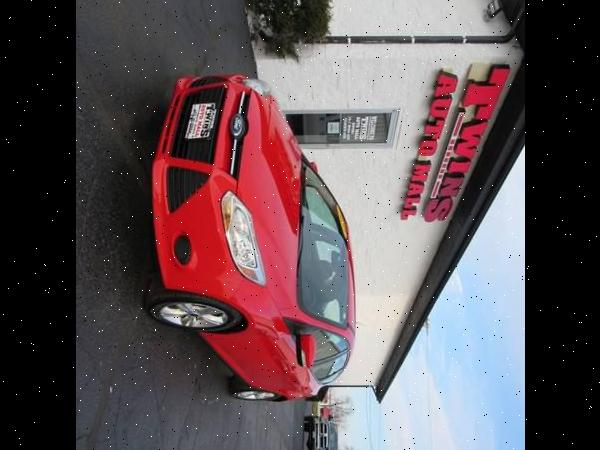Front_Bumper: (154, 74, 250, 301)
Front_Fender: (201, 275, 298, 339)
Front_Left_Door: (206, 333, 307, 377)
Front_Left_Window: (290, 323, 349, 367)
Front_Right_Door: (239, 78, 272, 96)
Front_Windshield: (299, 160, 350, 331)
Grille: (151, 69, 226, 221)
Hood: (239, 93, 303, 310)
Left_Headlight: (218, 189, 267, 286)
Rear_Left_Door: (242, 370, 318, 400)
Rear_Left_Window: (308, 353, 347, 387)
Roof: (297, 226, 356, 354)
Wheel: (145, 291, 235, 333), (226, 378, 277, 404)
